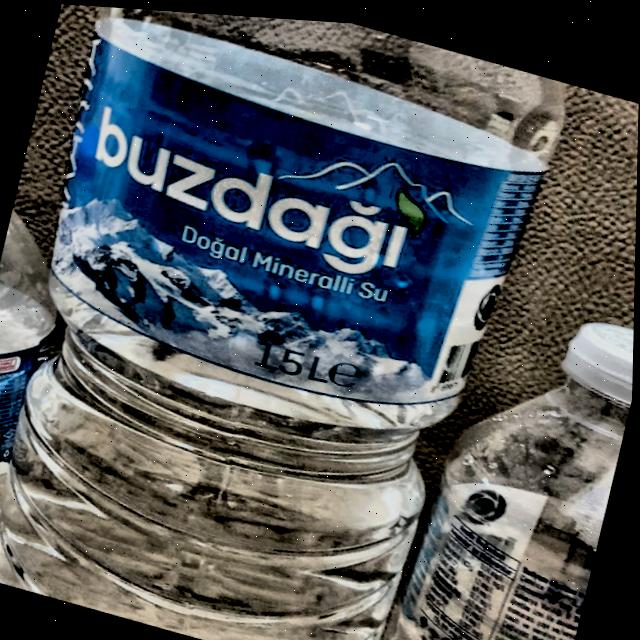plastic: (0, 5, 572, 640), (381, 312, 635, 640)
